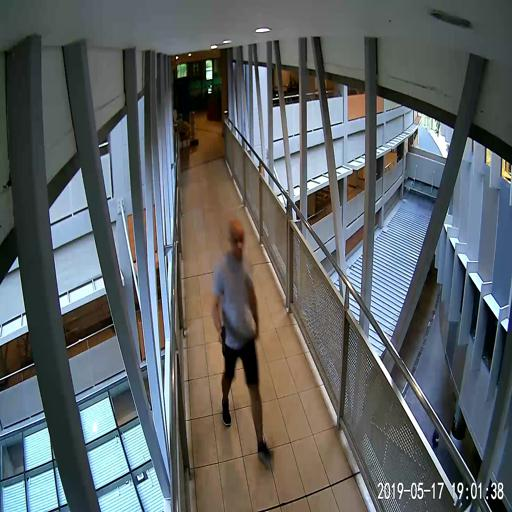pistol: (219, 325, 226, 356)
